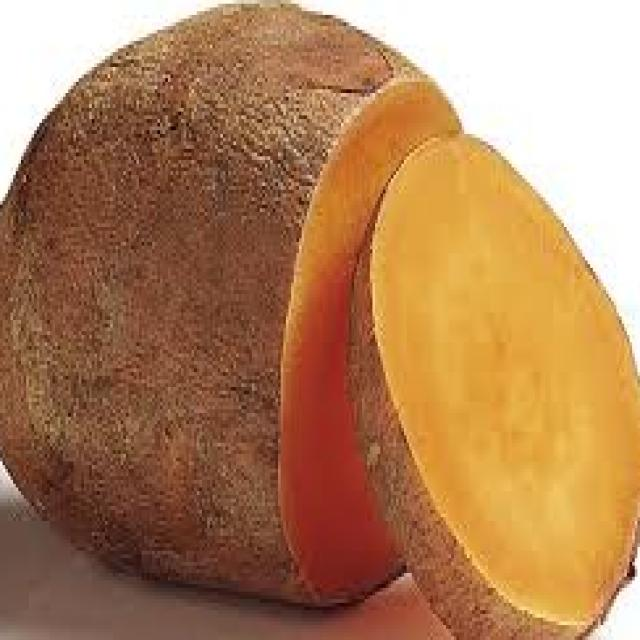sweet potato: (29, 15, 640, 640)
